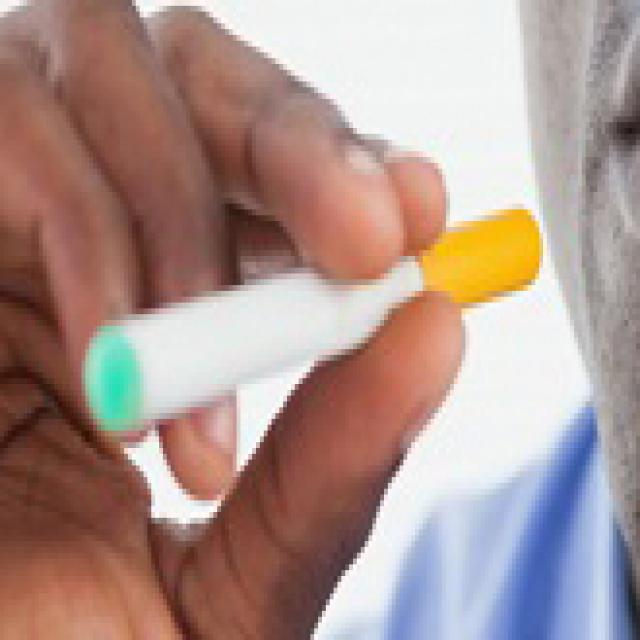smoking: (83, 205, 540, 439)
